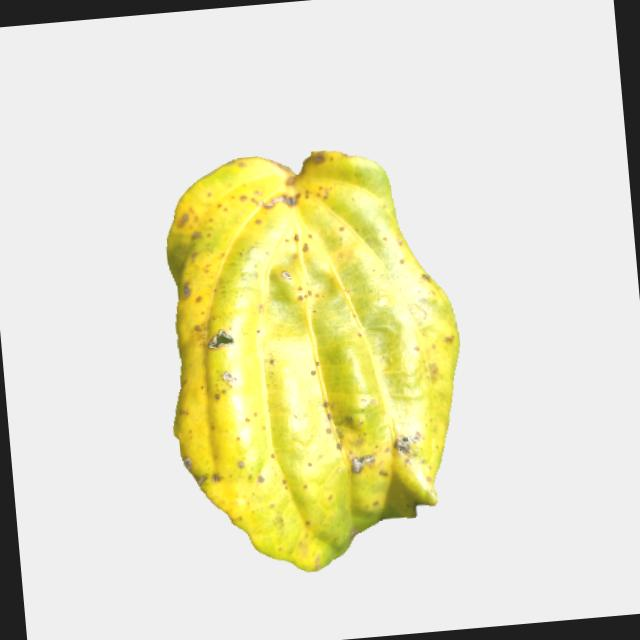yellow-mottle-virus: (138, 142, 480, 579)
